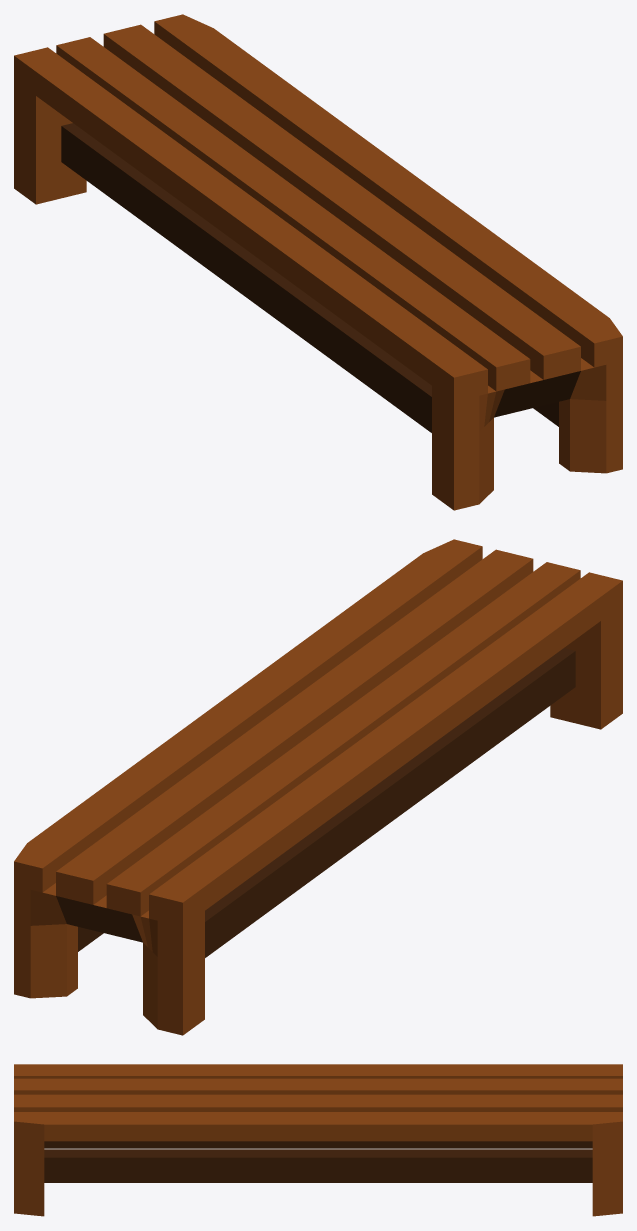
File: LowBench.fbx
The picture shows the model from 3 angles, top to bottom: view 1: azimuth 30°, elevation 25°; view 2: azimuth 150°, elevation 25°; view 3: azimuth 270°, elevation 25°; orthographic projection. The views are drawn at different scales.
Visible parts, largest first — view 1: Cube.005; view 2: Cube.005; view 3: Cube.005.
Boxes of the visible parts, bbox=[...] form: Cube.005: bbox=[14, 14, 622, 510]; Cube.005: bbox=[14, 539, 622, 1035]; Cube.005: bbox=[14, 1064, 622, 1216].
Bounding box in the file's own units: 70 × 50 × 300.
